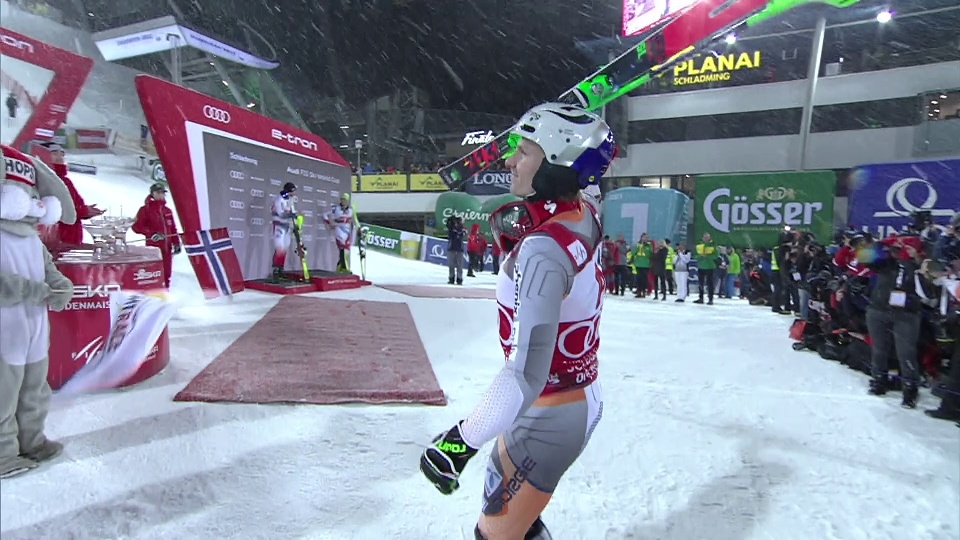audi: (202, 104, 234, 127), (249, 219, 269, 229)
etron: (271, 129, 322, 154), (1, 24, 39, 54)
goesser: (703, 180, 838, 233), (363, 229, 404, 255)
longines: (474, 170, 521, 190)
uniqa: (849, 168, 959, 241), (428, 241, 455, 269)
